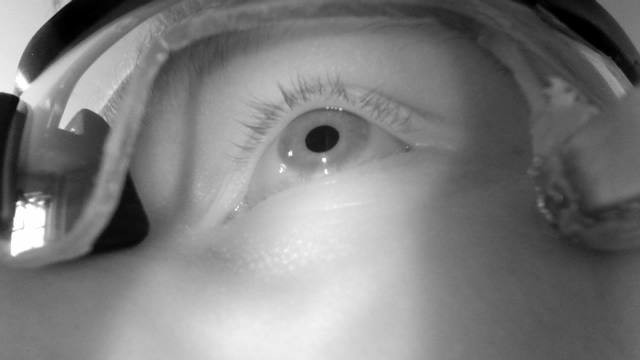pupil: (305, 124, 341, 154)
